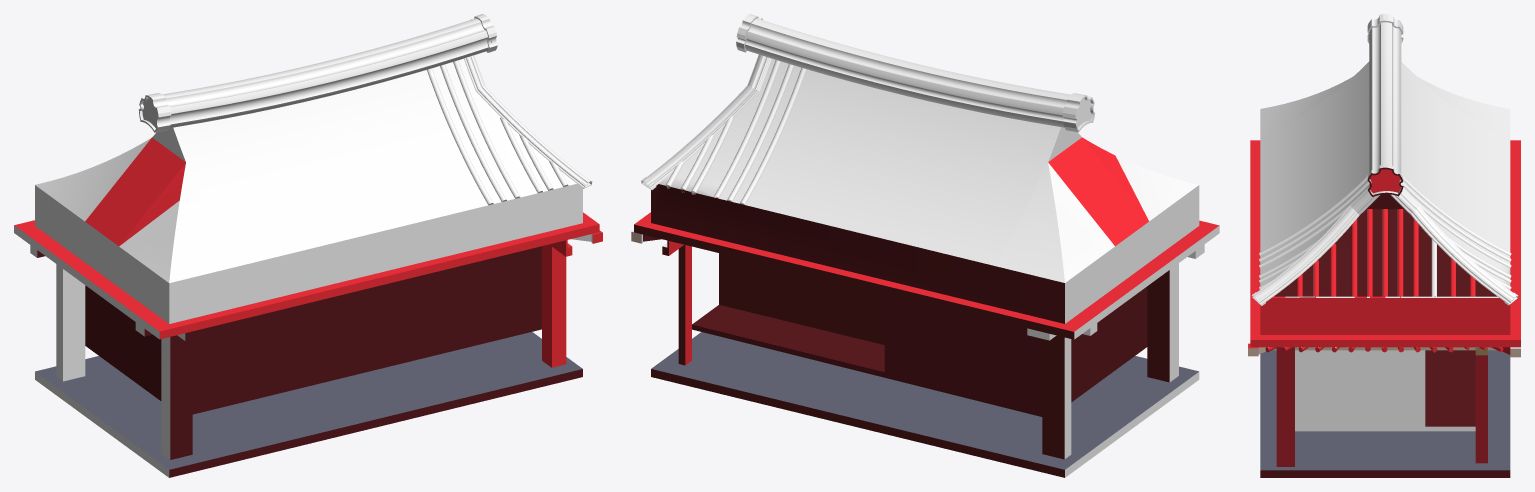
File: gosthouse2.fbx
3 views of the same model, side by side, from view 1: azimuth 30°, elevation 25°; view 2: azimuth 150°, elevation 25°; view 3: azimuth 270°, elevation 25° (orthographic). The views are drawn at different scales.
Visible parts, largest first — view 1: Model; view 2: Model; view 3: Model.
Boxes of the visible parts, x1,y1,x2,y2 form: Model: [14, 14, 602, 477]; Model: [631, 14, 1219, 477]; Model: [1248, 14, 1520, 477].
Size of the model in its own units: 8559 by 5922 by 4913.
